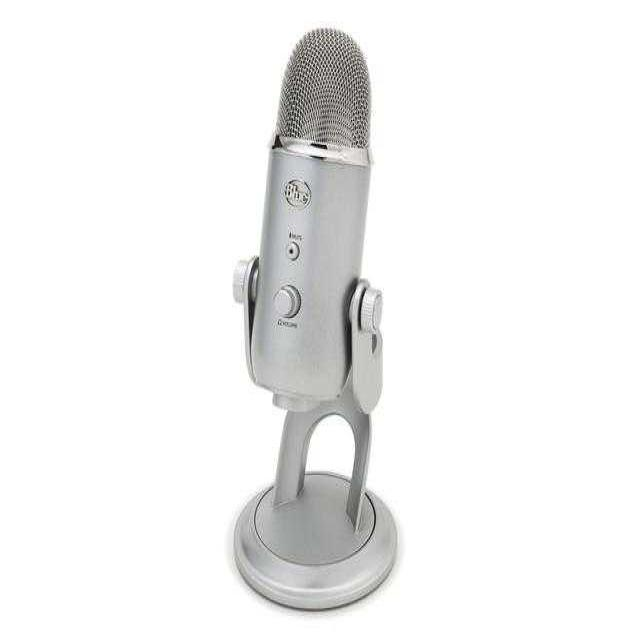microphone: (248, 26, 376, 402)
